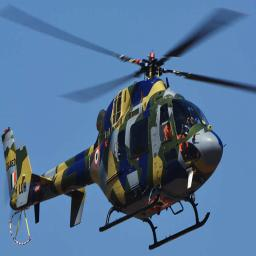helicopter: (1, 6, 256, 247)
